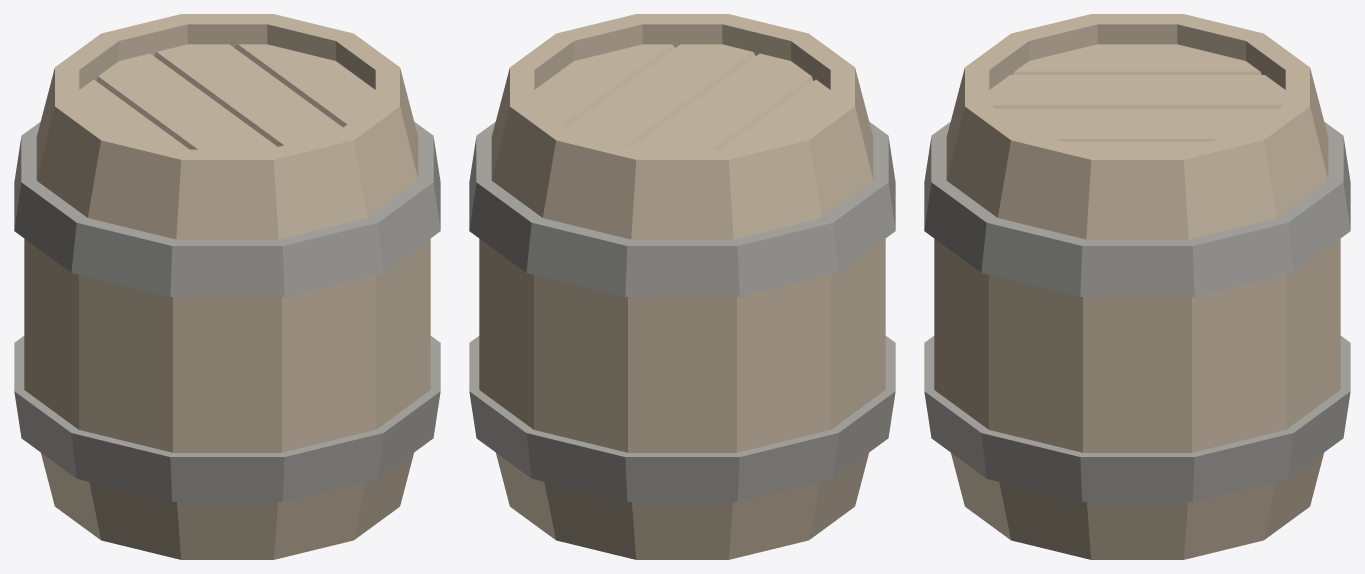
Rendered from prop_barrel_1.glb.
3 views of the same model, side by side, from view 1: azimuth 30°, elevation 25°; view 2: azimuth 150°, elevation 25°; view 3: azimuth 270°, elevation 25° (orthographic).
Parts seen in each view (by area): view 1: object1; view 2: object1; view 3: object1.
Boxes of the visible parts, x1,y1,x2,y2 form: object1: [14, 14, 440, 559]; object1: [469, 14, 895, 559]; object1: [924, 14, 1350, 559].
Bounding box in the file's own units: 0.483 × 0.5 × 0.483.
